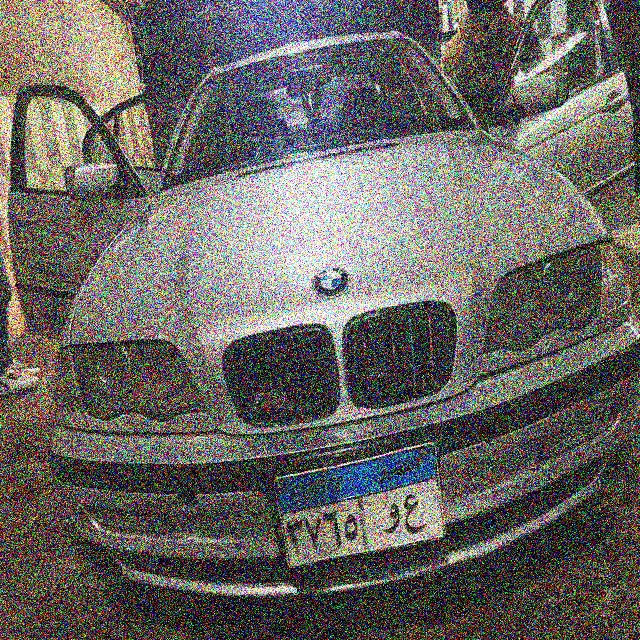License Plate: (274, 440, 451, 570)
